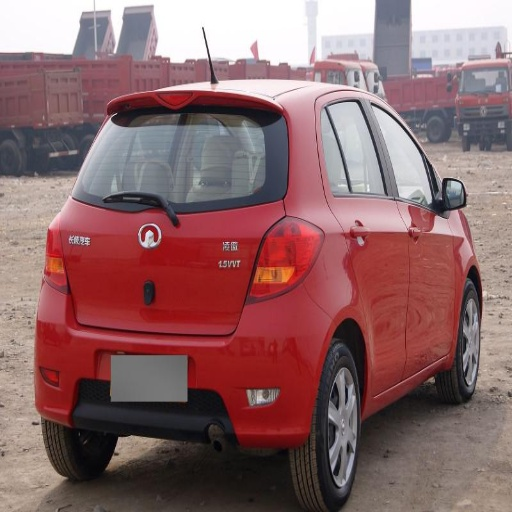back_bumper: (42, 281, 332, 451)
back_right_door: (318, 96, 409, 393)
trunk: (62, 202, 280, 331)
